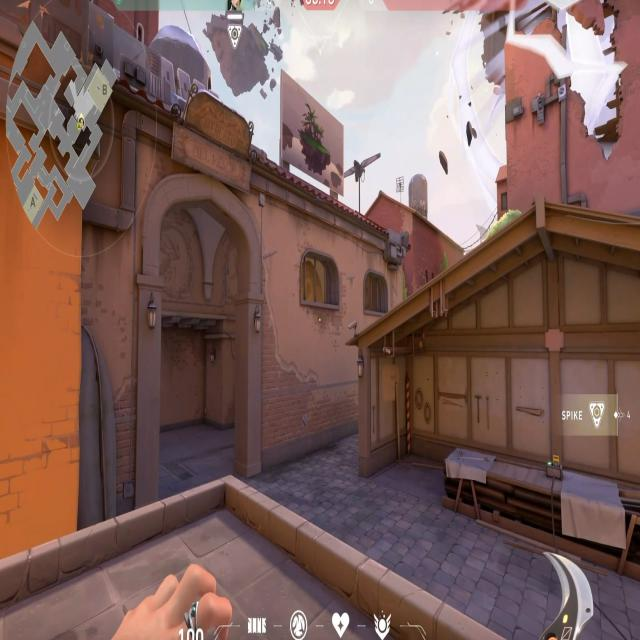B_Garage_Left: (354, 339, 565, 533)
Throwables: (299, 242, 344, 321), (361, 263, 391, 321)
